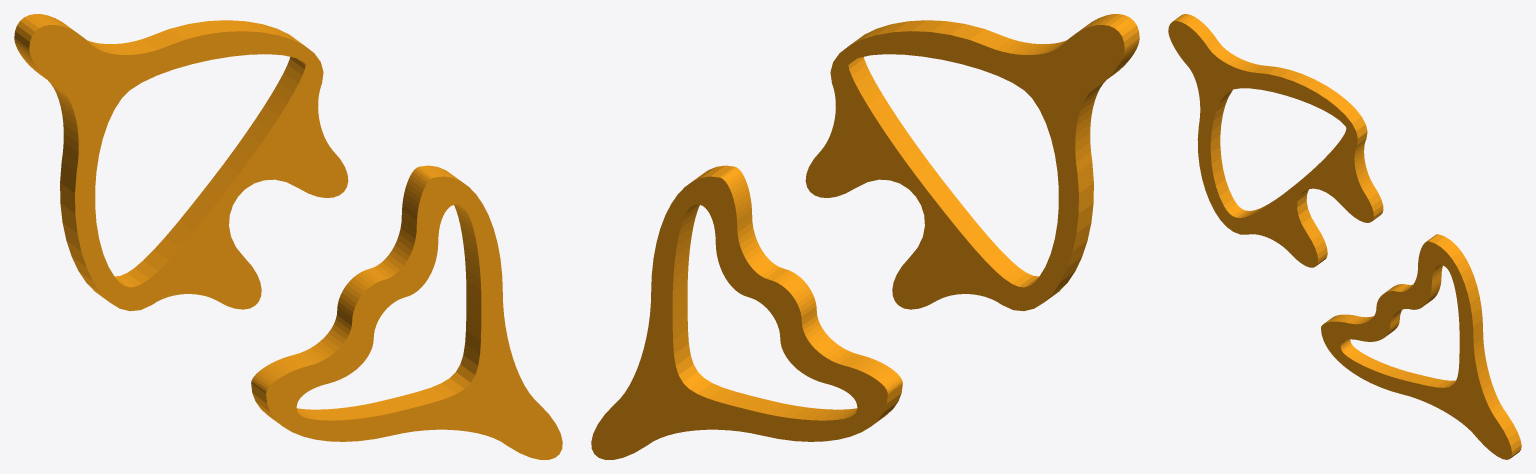
Rendered from api.gltf.
The picture shows the model from 3 angles, left to right: view 1: azimuth 30°, elevation 25°; view 2: azimuth 150°, elevation 25°; view 3: azimuth 330°, elevation 25°; orthographic projection. The views are drawn at different scales.
Parts seen in each view (by area): view 1: Curve, Curve.001; view 2: Curve, Curve.001; view 3: Curve, Curve.001.
Part boxes in pixels (x1,y1,x2,y2): Curve: (14,14,348,311); Curve.001: (251,165,562,459); Curve: (805,14,1139,311); Curve.001: (591,165,902,459); Curve: (1168,14,1383,267); Curve.001: (1321,234,1521,459).
Size of the model in its own units: 0.0617 by 0.0615 by 0.003.
